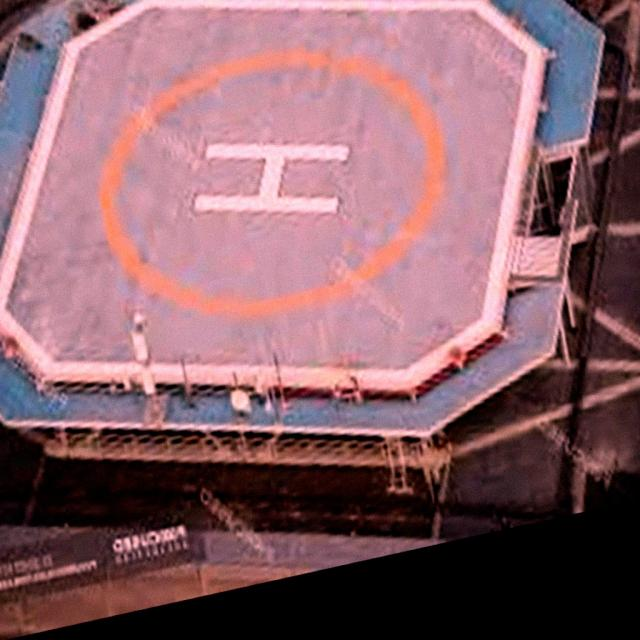helipad: (91, 42, 454, 327)
